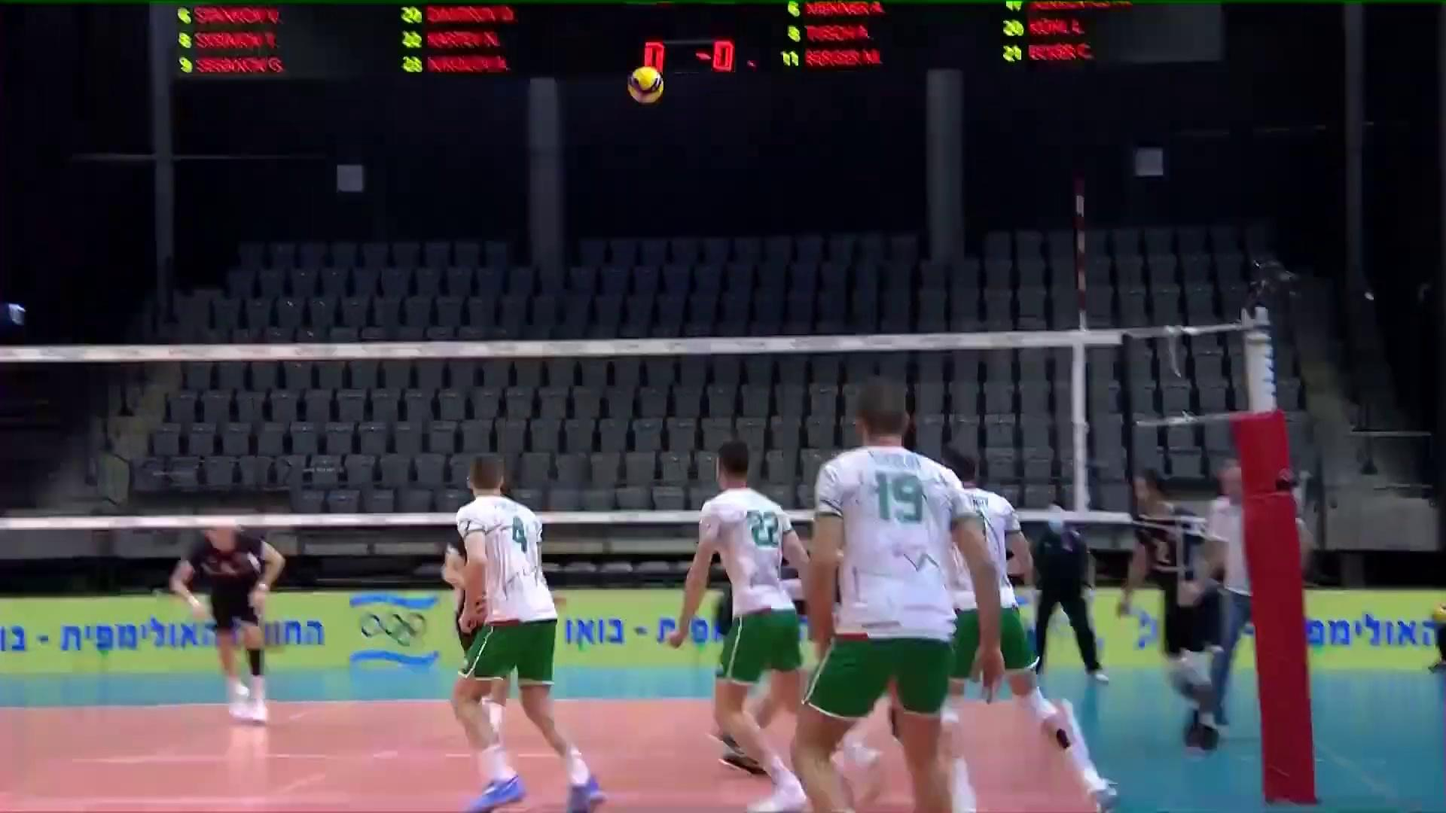ball: (628, 65, 665, 108)
